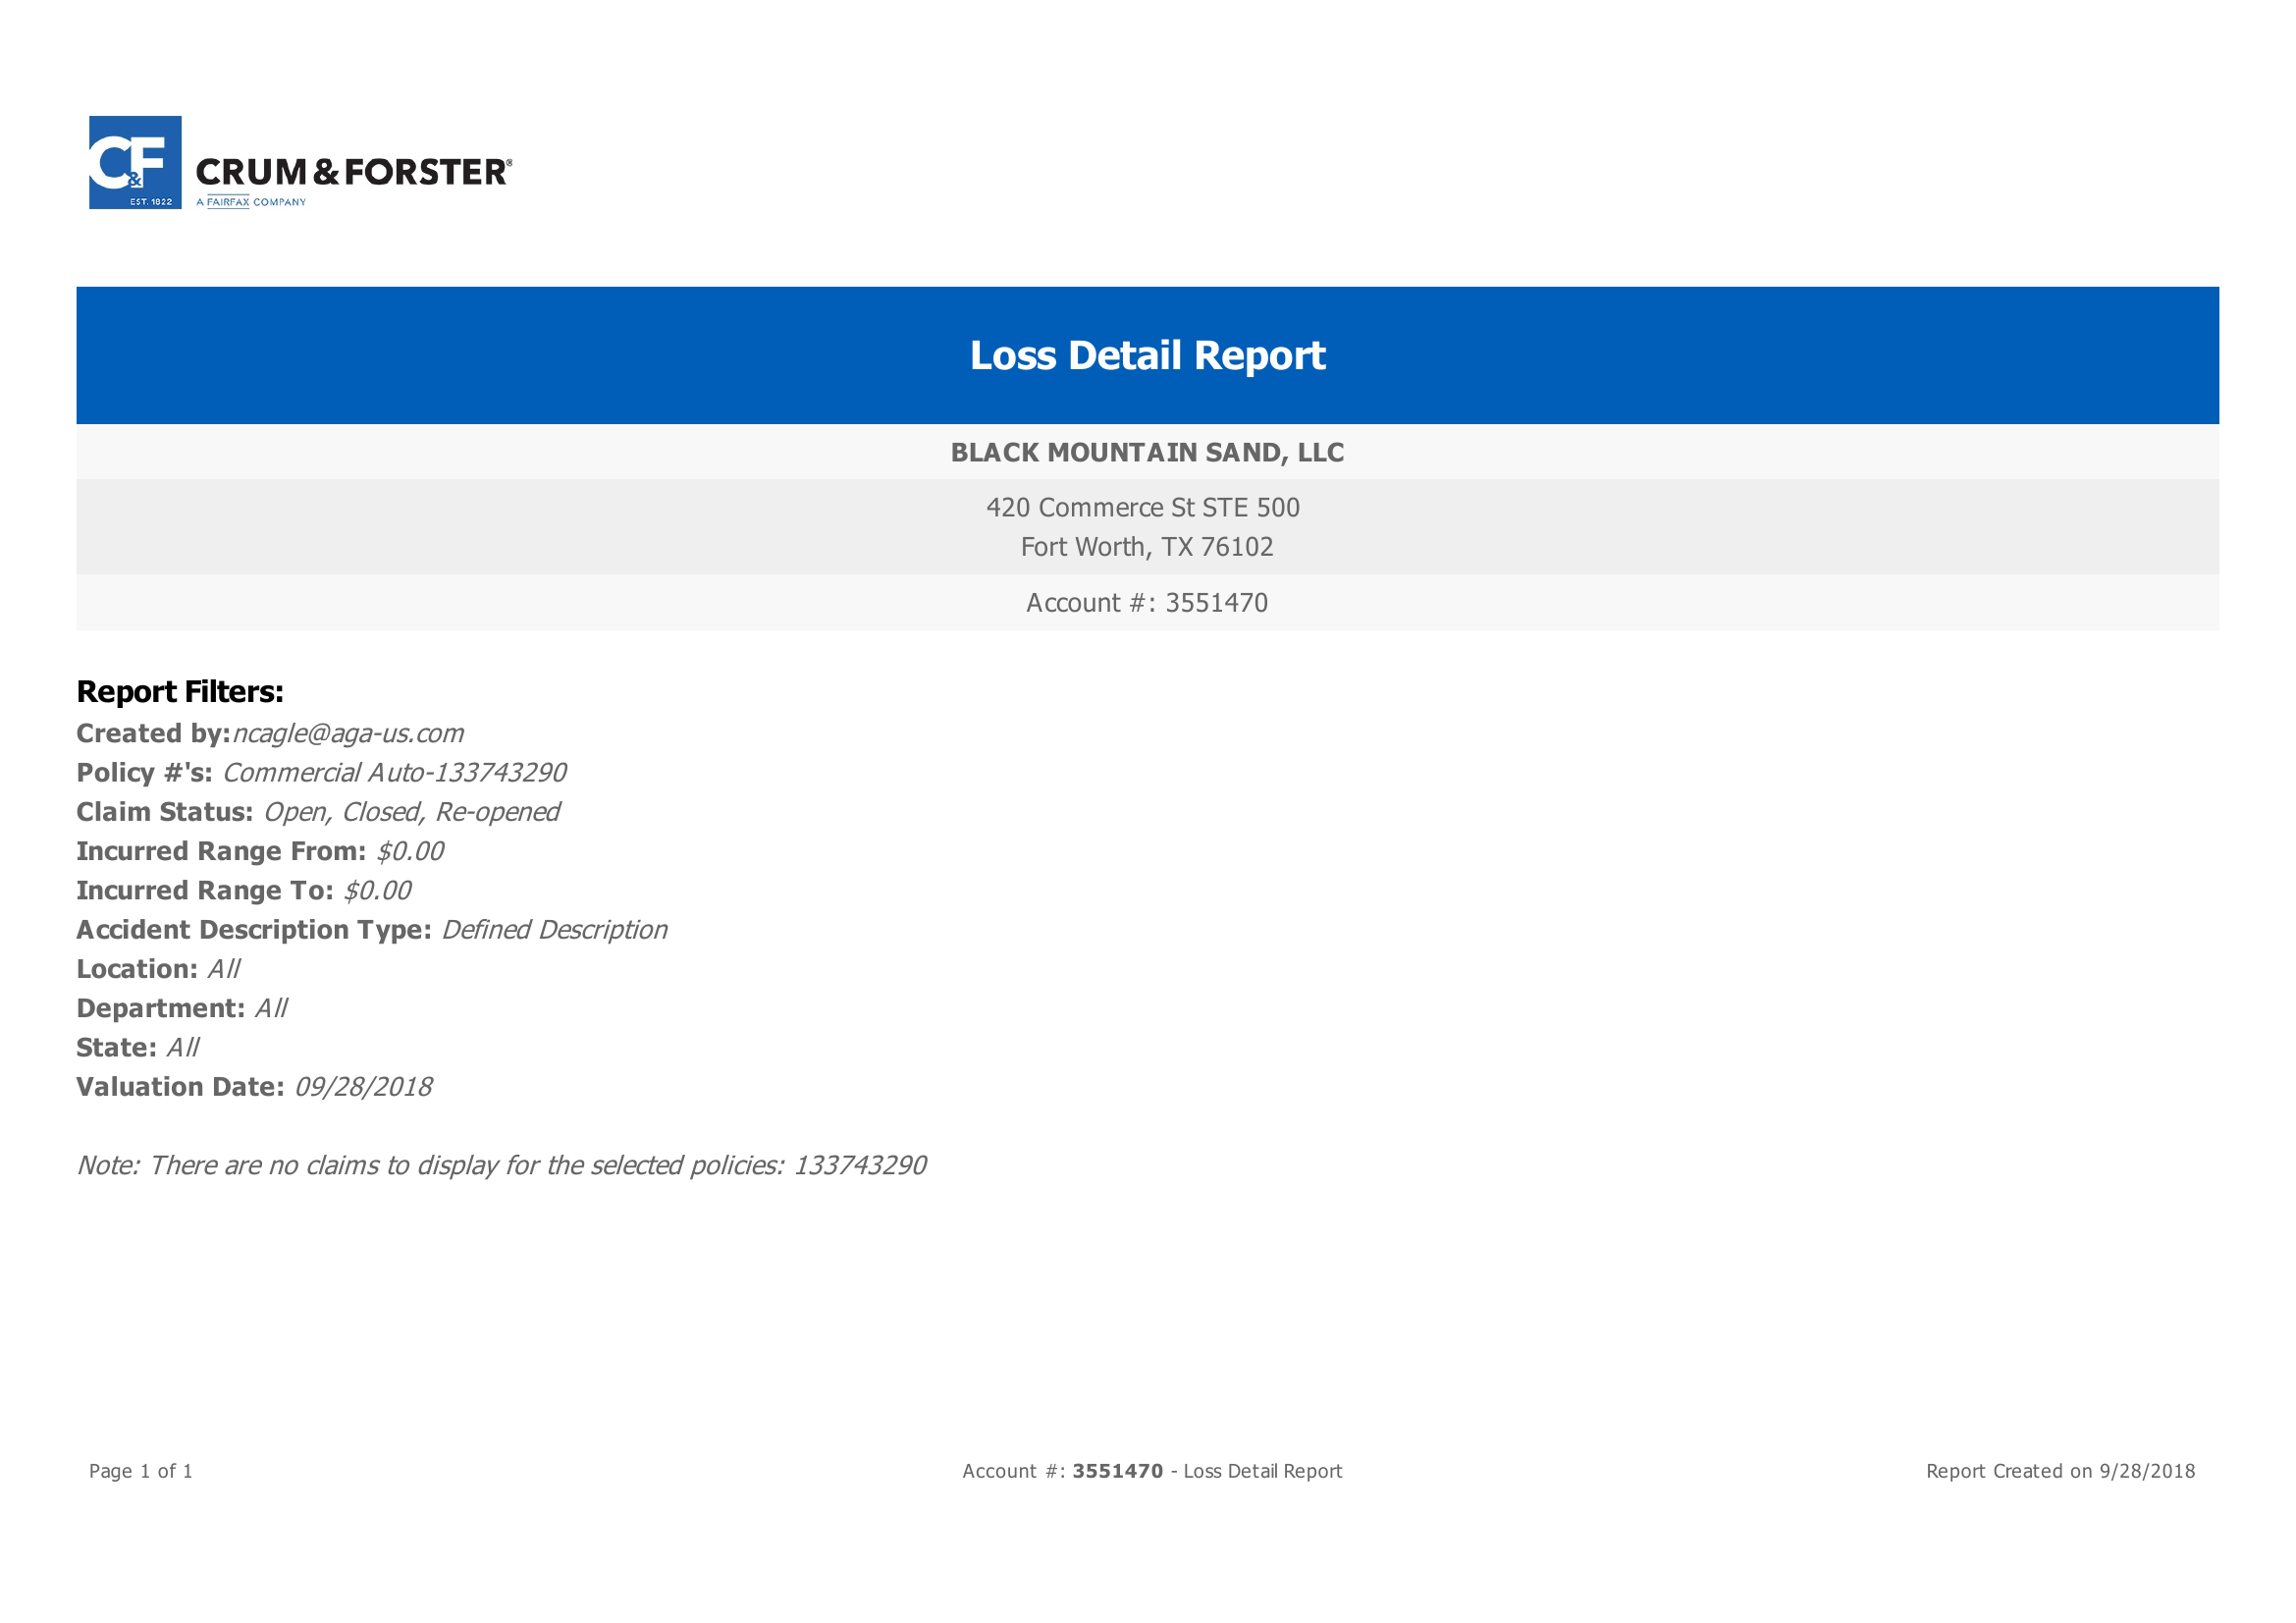No-loss: (63, 669, 1731, 1235)
